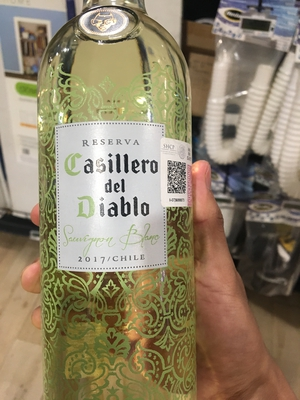casillero del diablo sauvignon blanc: (30, 15, 210, 398)
